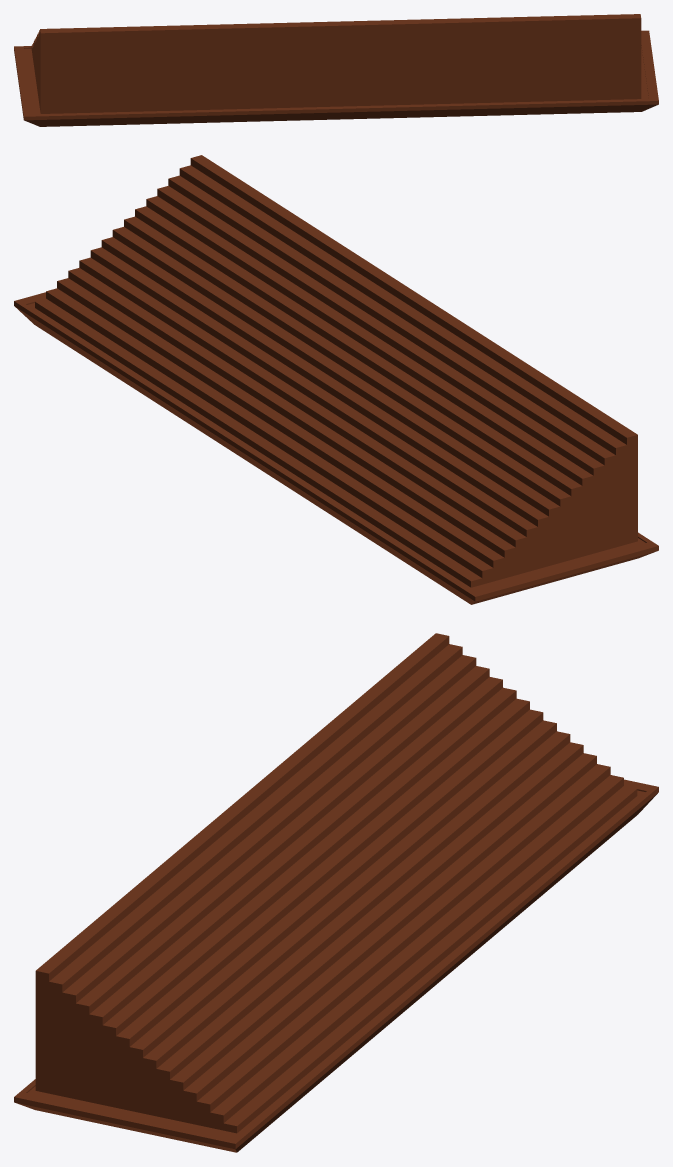
Rendered from Bleachers.fbx.
3 renders of one model, top to bottom at view 1: azimuth 30°, elevation 25°; view 2: azimuth 150°, elevation 25°; view 3: azimuth 270°, elevation 25°, orthographic. The views are drawn at different scales.
Visible parts, largest first — view 1: Audience; view 2: Audience; view 3: Audience.
Part boxes in pixels (x1,y1,x2,y2): Audience: [14, 14, 658, 126]; Audience: [14, 155, 658, 604]; Audience: [14, 633, 658, 1152].
Bounding box in the file's own units: 4494 × 721 × 3032.
